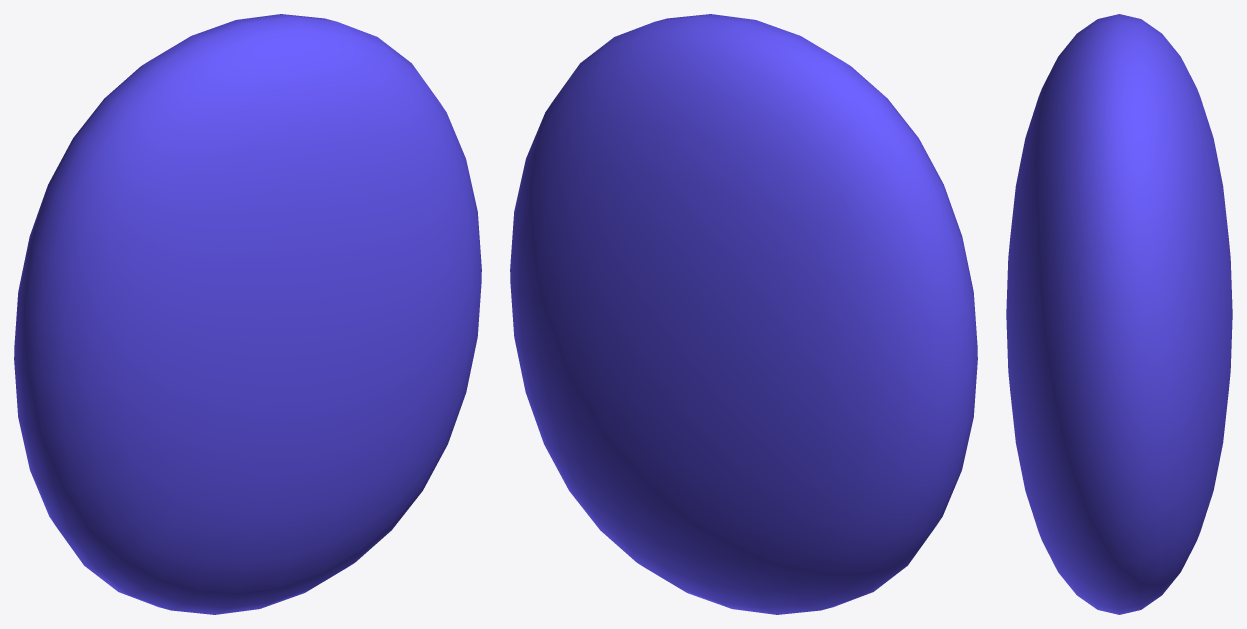
File: bODY.fbx
The picture shows the model from 3 angles, left to right: view 1: azimuth 30°, elevation 25°; view 2: azimuth 150°, elevation 25°; view 3: azimuth 270°, elevation 25°; orthographic projection. The views are drawn at different scales.
Visible parts, largest first — view 1: Cube.005; view 2: Cube.005; view 3: Cube.005.
Part boxes in pixels (box(x1,y1,x2,y2)): Cube.005: box(14, 14, 481, 614); Cube.005: box(510, 14, 977, 614); Cube.005: box(1006, 14, 1232, 614).
Size of the model in its own units: 1.25 by 1.54 by 0.5703.
